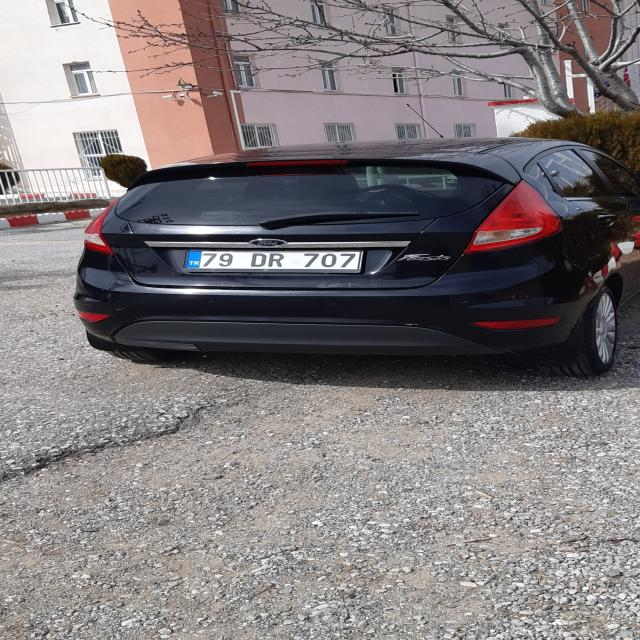plate: (186, 250, 361, 270)
